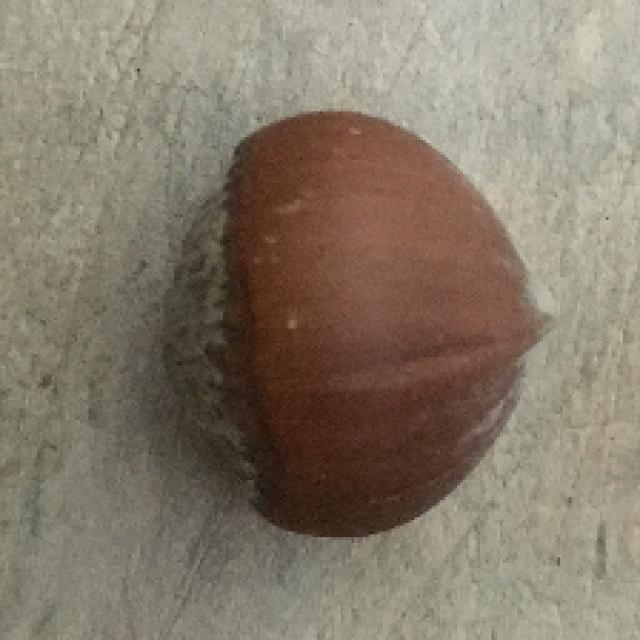qualityHazelnut: (154, 97, 549, 549)
